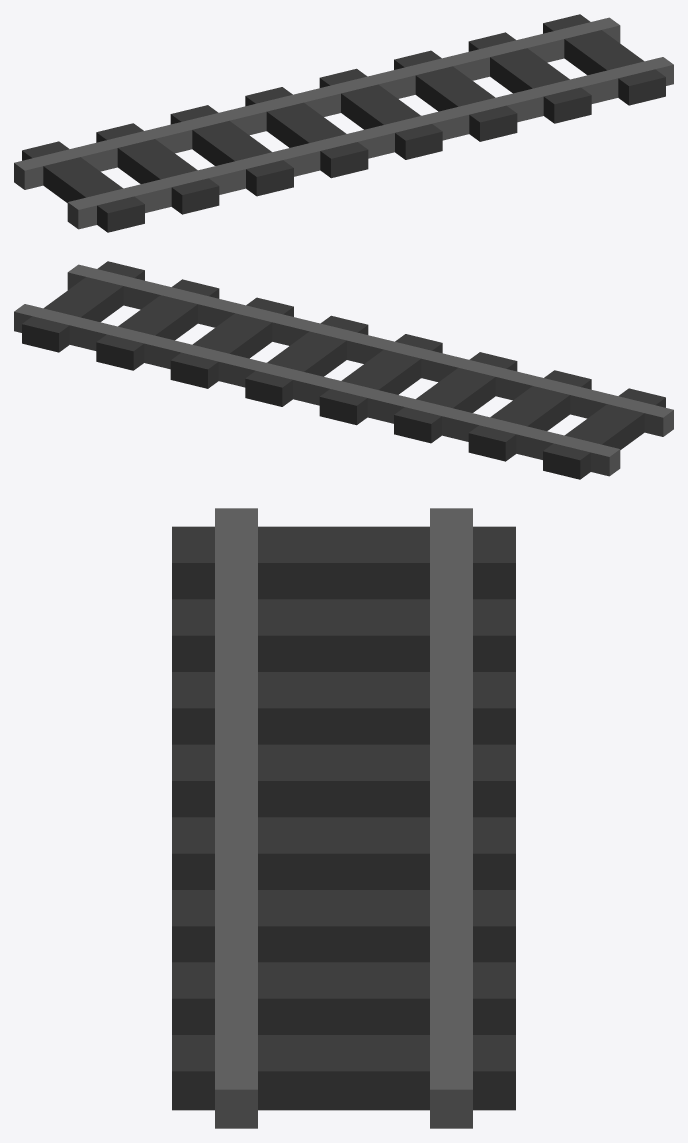
File: track-straight.gltf
The picture shows the model from 3 angles, top to bottom: view 1: azimuth 30°, elevation 25°; view 2: azimuth 150°, elevation 25°; view 3: azimuth 270°, elevation 25°; orthographic projection. The views are drawn at different scales.
Parts seen in each view (by area): view 1: track-straight_model; view 2: track-straight_model; view 3: track-straight_model.
Boxes of the visible parts, x1,y1,x2,y2 form: track-straight_model: [14, 14, 673, 232]; track-straight_model: [14, 261, 673, 479]; track-straight_model: [172, 508, 515, 1128].
Bounding box in the file's own units: 3.2 × 0.1 × 0.8.
Materials: 1 (1 with a texture image).
